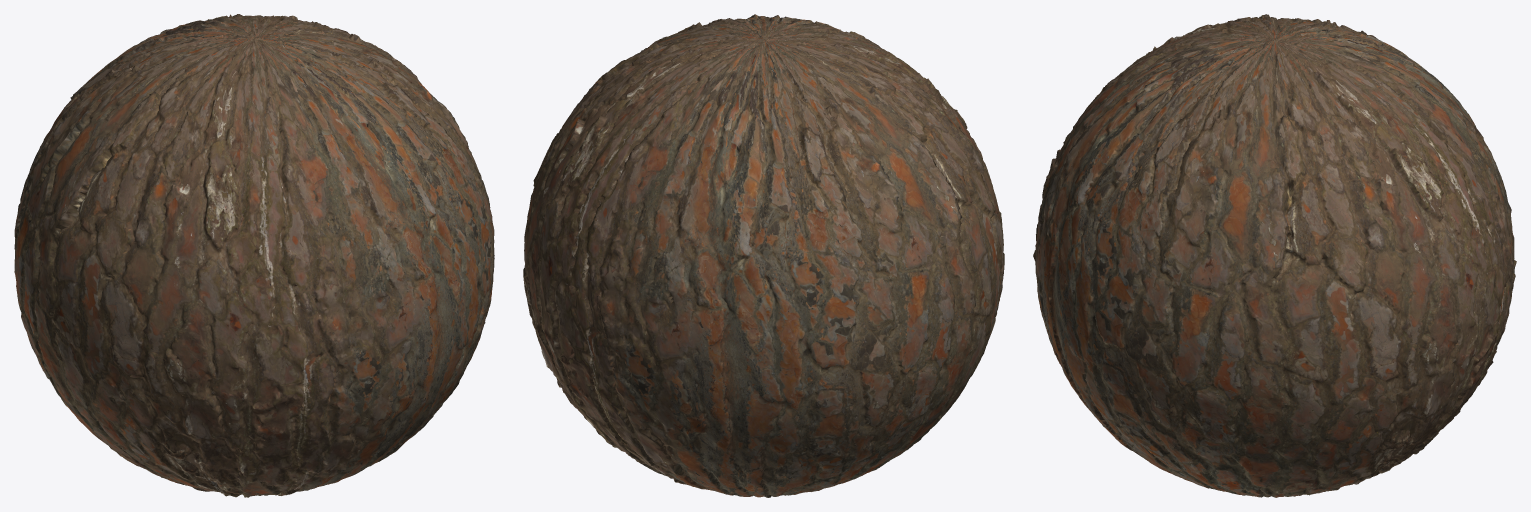
File: pine_bark_2k.gltf
3 renders of one model, left to right at view 1: azimuth 30°, elevation 25°; view 2: azimuth 150°, elevation 25°; view 3: azimuth 270°, elevation 25°, orthographic.
Parts seen in each view (by area): view 1: sphere_gltf; view 2: sphere_gltf; view 3: sphere_gltf.
Boxes of the visible parts, x1=… form: sphere_gltf: x1=14, y1=14, x2=494, y2=497; sphere_gltf: x1=523, y1=14, x2=1004, y2=497; sphere_gltf: x1=1033, y1=14, x2=1516, y2=497.
Bounding box in the file's own units: 2.03 × 2.04 × 2.05.
Materials: 1 (1 with a texture image).
